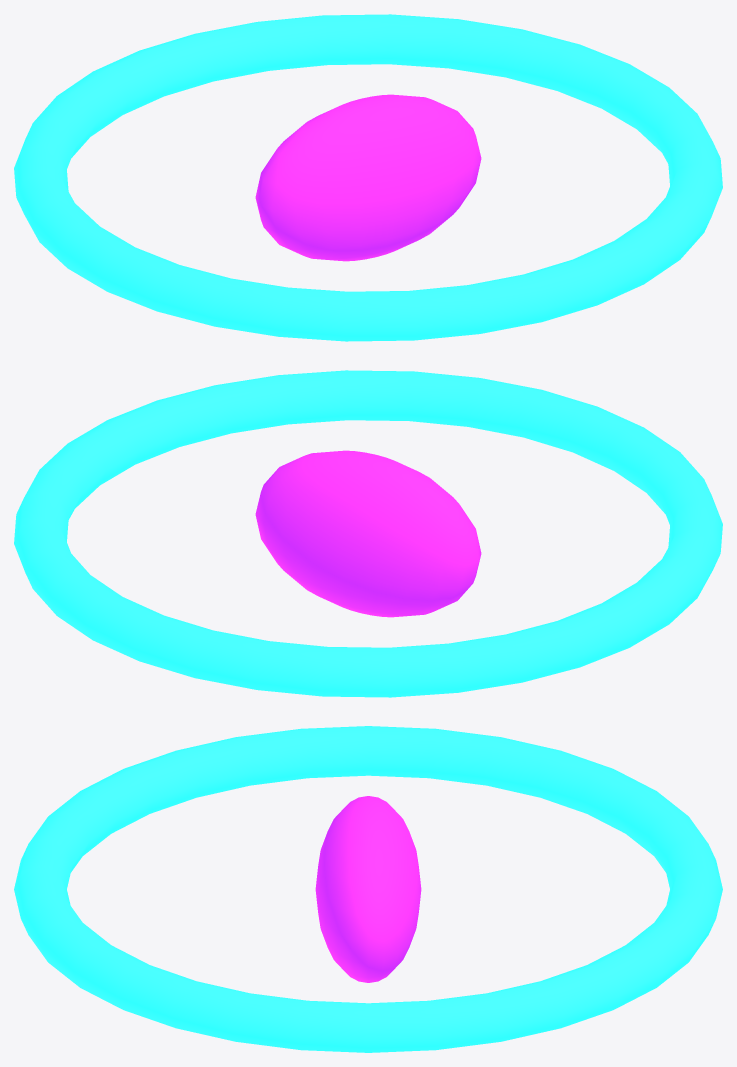
File: EyeShield.glb
3 renders of one model, top to bottom at view 1: azimuth 30°, elevation 25°; view 2: azimuth 150°, elevation 25°; view 3: azimuth 270°, elevation 25°, orthographic.
Parts seen in each view (by area): view 1: VFX_EyeShield; view 2: VFX_EyeShield; view 3: VFX_EyeShield.
Boxes of the visible parts, x1,y1,x2,y2 form: VFX_EyeShield: (14,14,722,341); VFX_EyeShield: (14,370,722,697); VFX_EyeShield: (14,726,722,1052).
Bounding box in the file's own units: 1.34 × 0.32 × 1.34.
